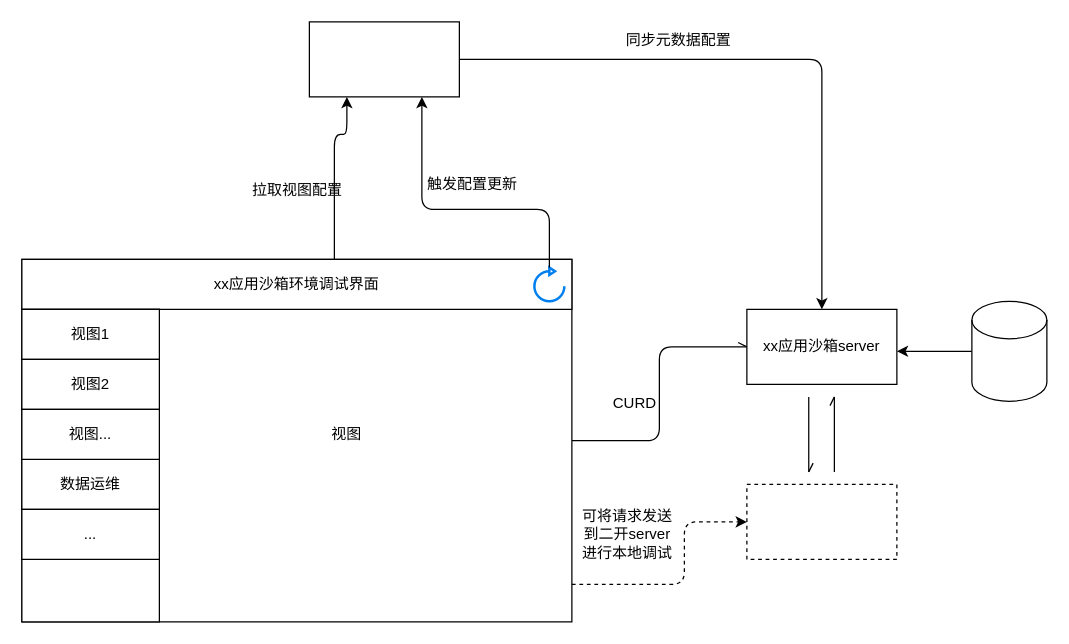
Image size: 1069x644. Some labels were removed from this diagram. Each missing label, with the centre of its shape:
"二开应用server" belongs at point (821, 521).
"沙箱环境数据库" belongs at point (1009, 350).
"配置端server" belongs at point (383, 59).
